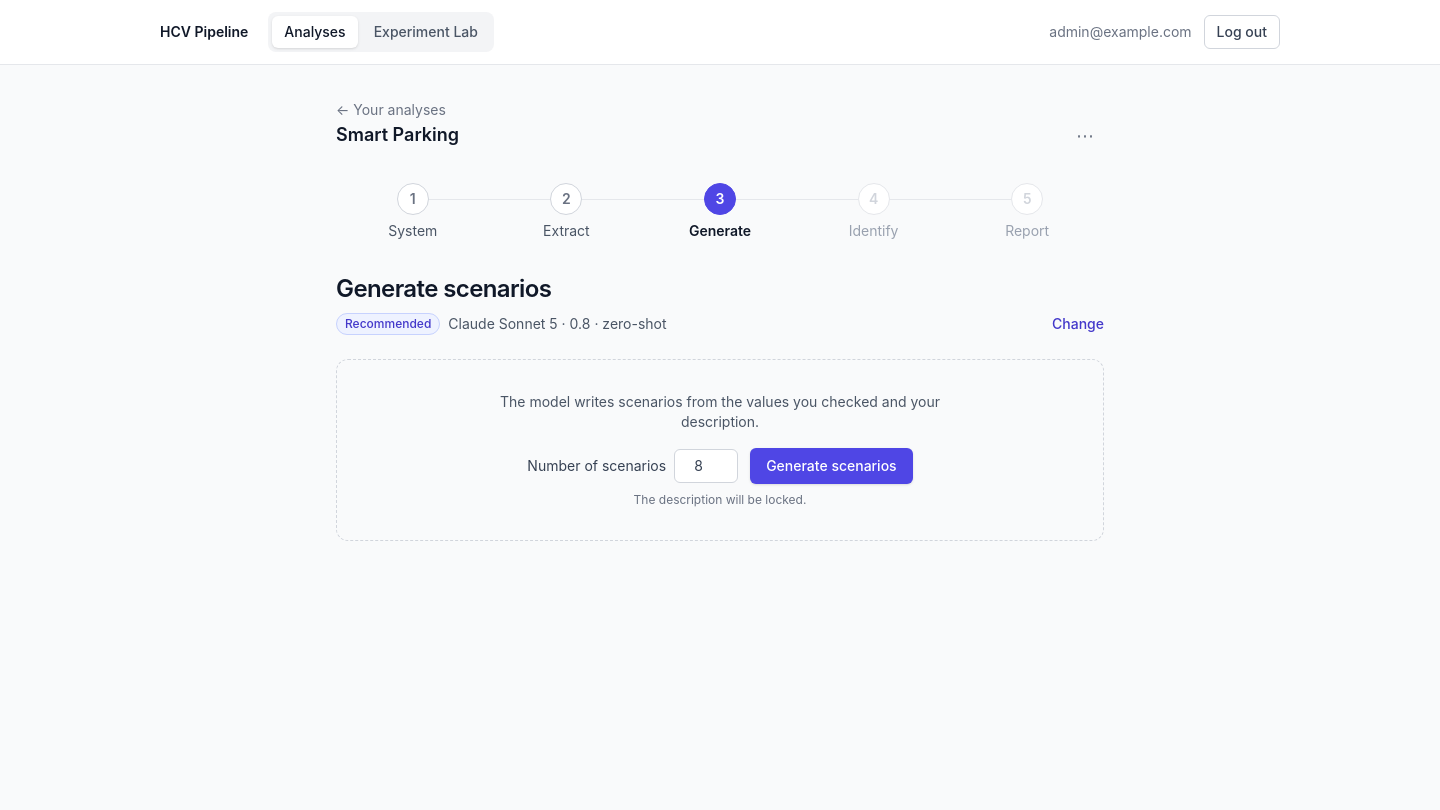
Test: Generate step › does not start when the settings could not be saved
The width and height of the screenshot is (1440, 810).
Replace the text in the number field labelled "Number of scenarios" with "12": [706, 466] box [674, 449, 738, 483]
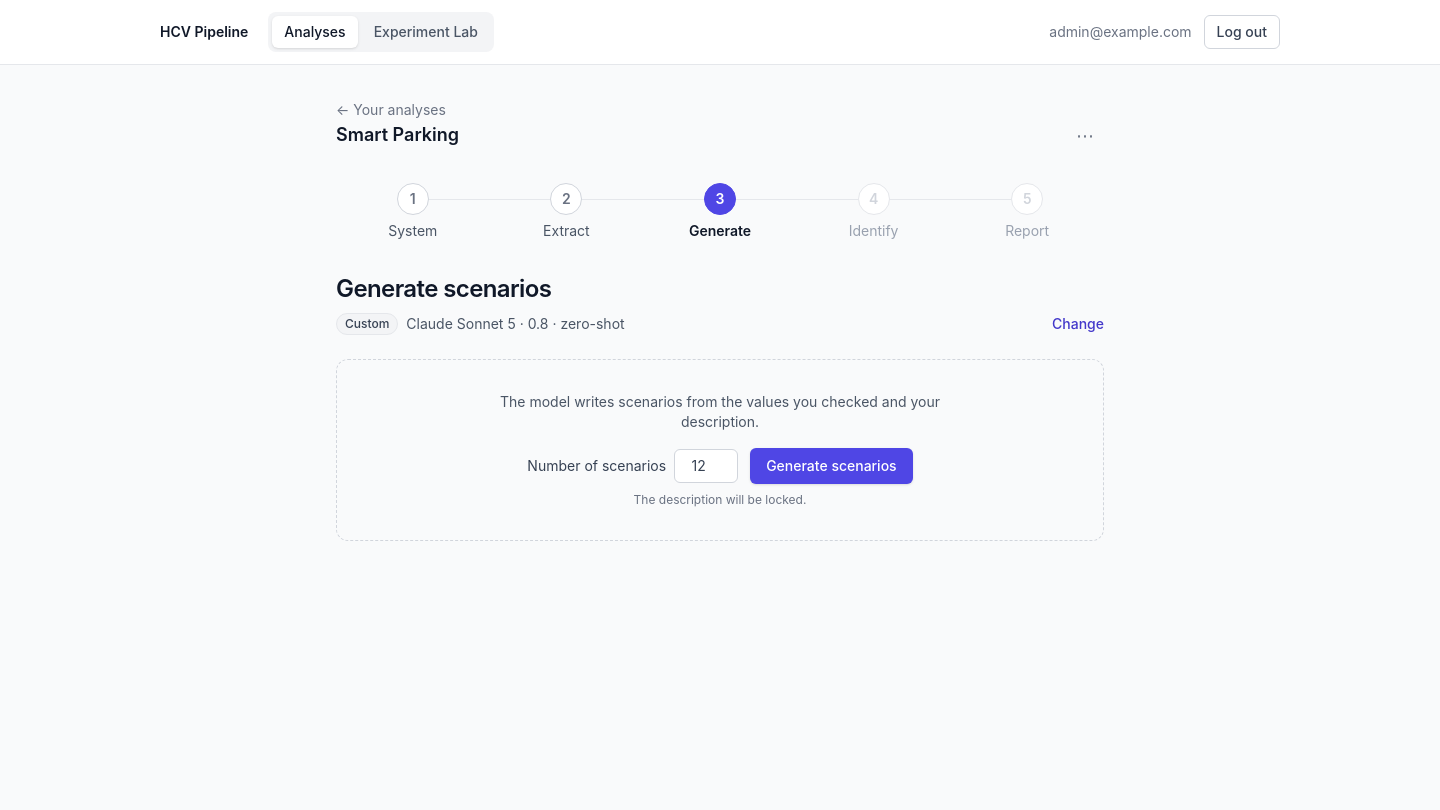
Click the button "Generate scenarios": [831, 466] box [750, 448, 913, 484]
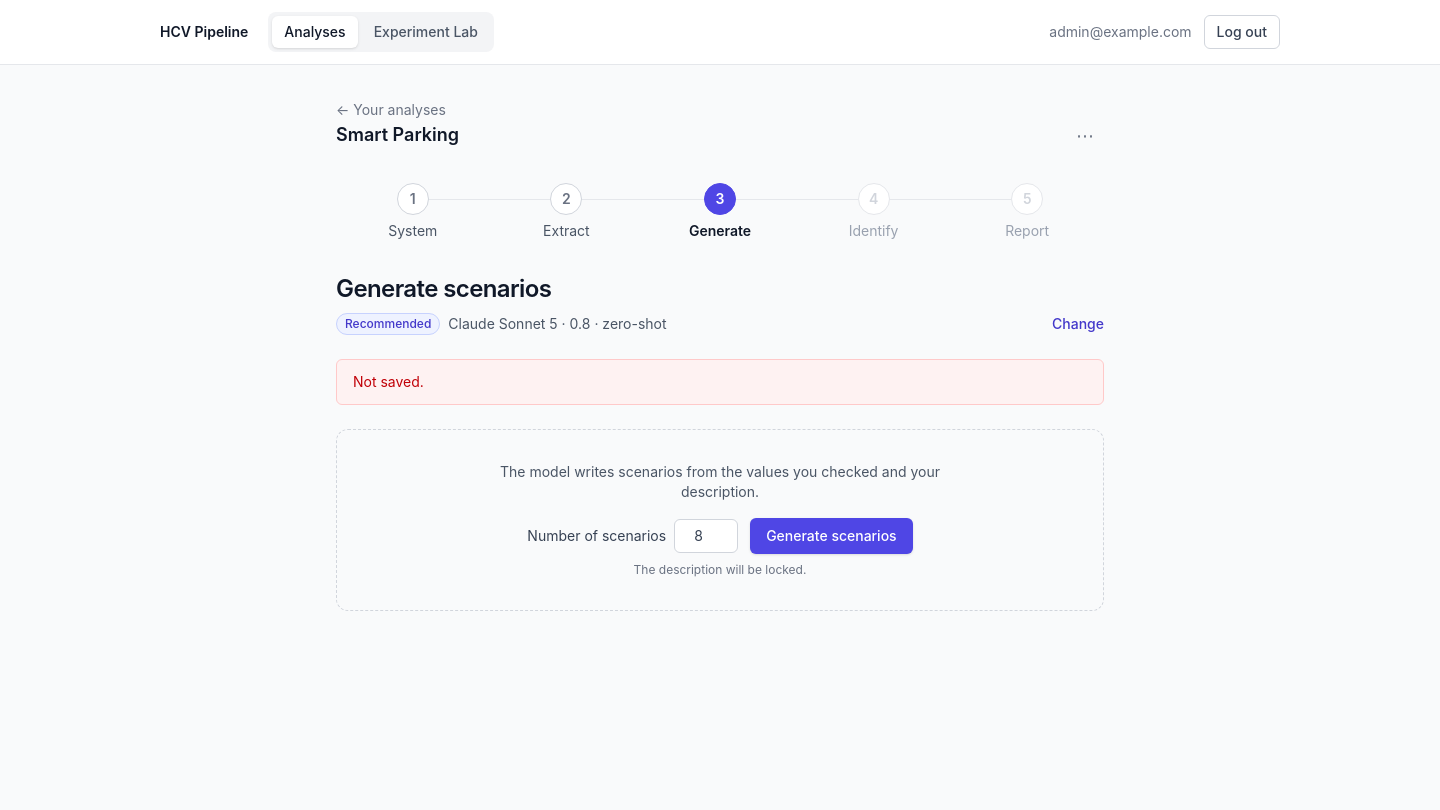
Now the message reads "Not saved.", box [353, 373, 424, 390]
